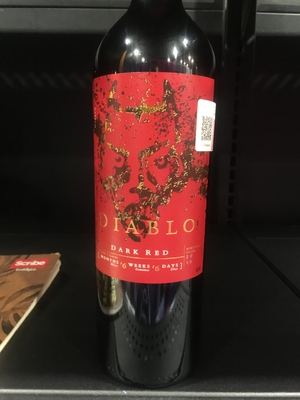diablo dark red: (85, 20, 229, 400)
